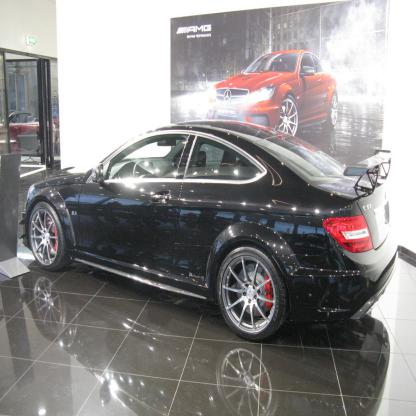Car: (13, 119, 401, 340), (205, 48, 340, 136), (0, 108, 60, 155)
